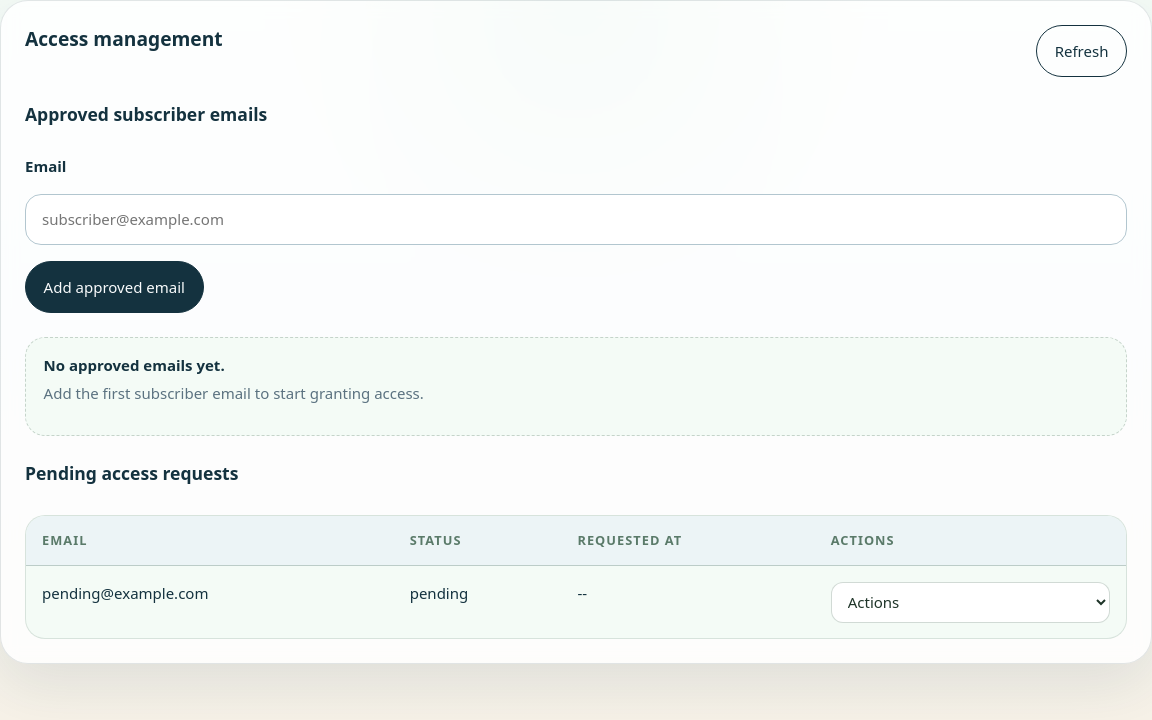
AdminPage › renders pending requests and approves one
Check: the text "pending@example.com" is shown, box left=26, top=566, right=394, bottom=638
Check: the table named "Pending access requests" is shown, box left=26, top=516, right=1126, bottom=638
Select "Approve" in the dropdown named "Actions for pending@example.com": (970, 602) left=831, top=582, right=1110, bottom=623
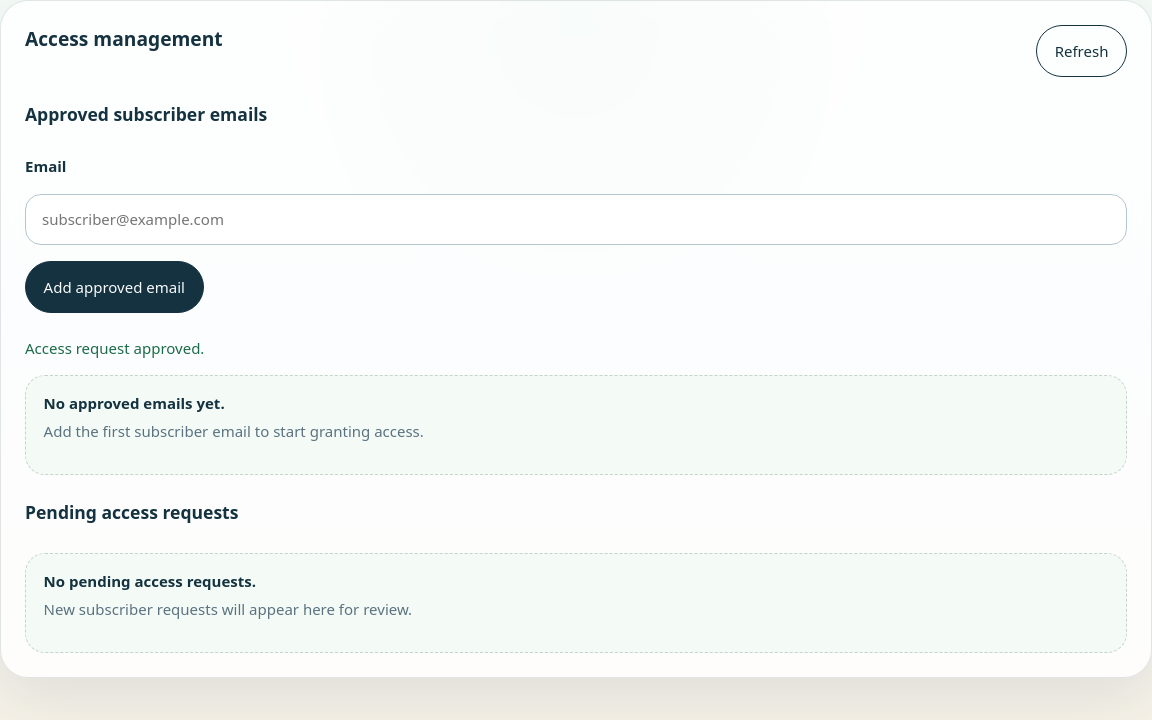
Check: the text "Access request approved." is shown, box left=25, top=338, right=204, bottom=358
Check: the text "No pending access requests." is shown, box left=44, top=571, right=256, bottom=591
